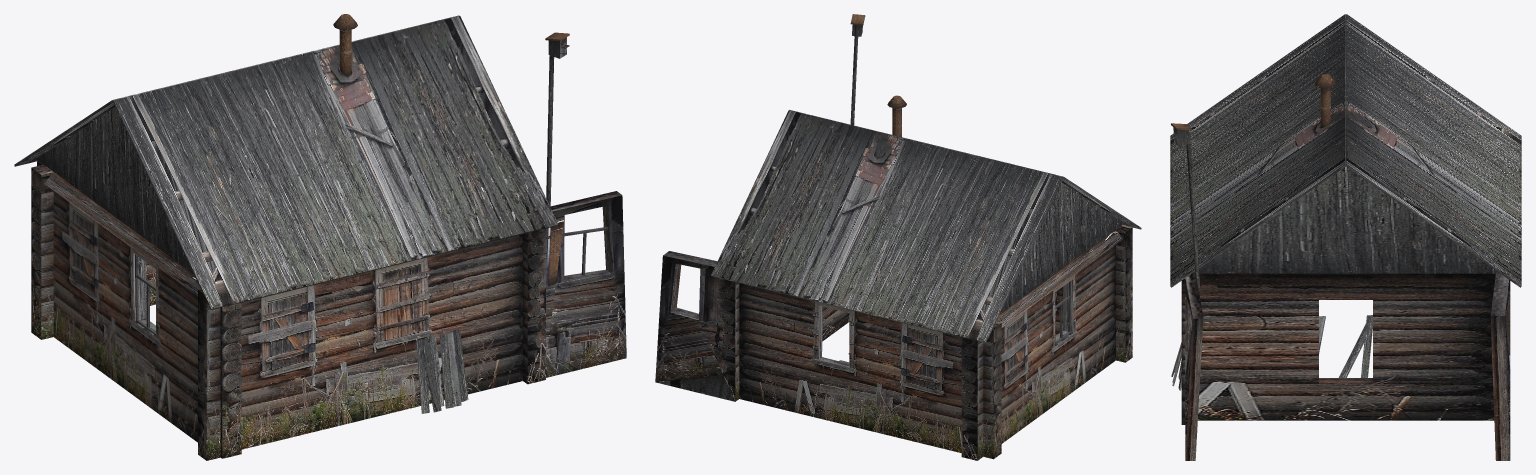
The model's file is d_brosheniy_domik.FBX.
The picture shows the model from 3 angles, left to right: view 1: azimuth 30°, elevation 25°; view 2: azimuth 150°, elevation 25°; view 3: azimuth 270°, elevation 25°; orthographic projection. The views are drawn at different scales.
Visible parts, largest first — view 1: d_brosheniy_domik; view 2: d_brosheniy_domik; view 3: d_brosheniy_domik.
Part boxes in pixels (<box>): d_brosheniy_domik: <box>14,14,626,460</box>; d_brosheniy_domik: <box>655,14,1141,460</box>; d_brosheniy_domik: <box>1170,14,1521,460</box>.
Bounding box in the file's own units: 8.06 × 6.51 × 6.25.
